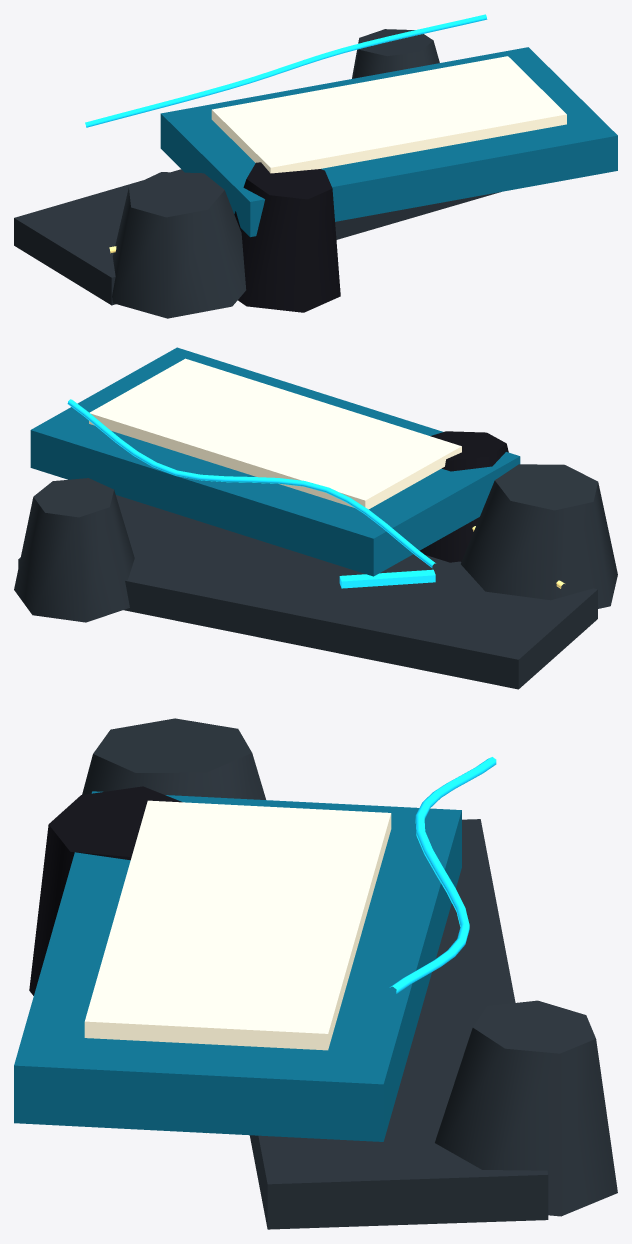
File: relief-road-terrace.glb
3 renders of one model, top to bottom at view 1: azimuth 30°, elevation 25°; view 2: azimuth 150°, elevation 25°; view 3: azimuth 270°, elevation 25°, orthographic. The views are drawn at different scales.
Parts seen in each view (by area): view 1: upper-terrace-plate, terrace-road-cap, retaining-rock-a, retaining-rock-b, lower-road-cut, retaining-rock-c, contour-line-high; view 2: lower-road-cut, upper-terrace-plate, terrace-road-cap, retaining-rock-a, retaining-rock-c, retaining-rock-b, contour-line-high, ramp-chevron-a; view 3: upper-terrace-plate, terrace-road-cap, lower-road-cut, retaining-rock-c, retaining-rock-a, retaining-rock-b, contour-line-high.
Part boxes in pixels (x1=…): upper-terrace-plate: x1=160, y1=47, x2=617, y2=237; terrace-road-cap: x1=211, y1=56, x2=566, y2=173; retaining-rock-a: x1=112, y1=172, x2=246, y2=318; retaining-rock-b: x1=234, y1=162, x2=340, y2=312; lower-road-cut: x1=14, y1=169, x2=500, y2=305; retaining-rock-c: x1=352, y1=29, x2=439, y2=78; contour-line-high: x1=85, y1=14, x2=487, y2=127; lower-road-cut: x1=18, y1=495, x2=597, y2=689; upper-terrace-plate: x1=30, y1=347, x2=520, y2=576; terrace-road-cap: x1=89, y1=358, x2=461, y2=509; retaining-rock-a: x1=461, y1=464, x2=617, y2=608; retaining-rock-c: x1=14, y1=478, x2=134, y2=622; retaining-rock-b: x1=420, y1=431, x2=508, y2=562; contour-line-high: x1=67, y1=399, x2=435, y2=567; ramp-chevron-a: x1=339, y1=569, x2=435, y2=588; upper-terrace-plate: x1=14, y1=791, x2=461, y2=1141; terrace-road-cap: x1=84, y1=800, x2=391, y2=1050; lower-road-cut: x1=249, y1=819, x2=548, y2=1229; retaining-rock-c: x1=435, y1=1000, x2=617, y2=1216; retaining-rock-a: x1=82, y1=718, x2=265, y2=799; retaining-rock-b: x1=29, y1=786, x2=182, y2=995; contour-line-high: x1=389, y1=757, x2=496, y2=993.
Bounding box in the file's own units: 2.02 × 0.5877 × 1.33.
